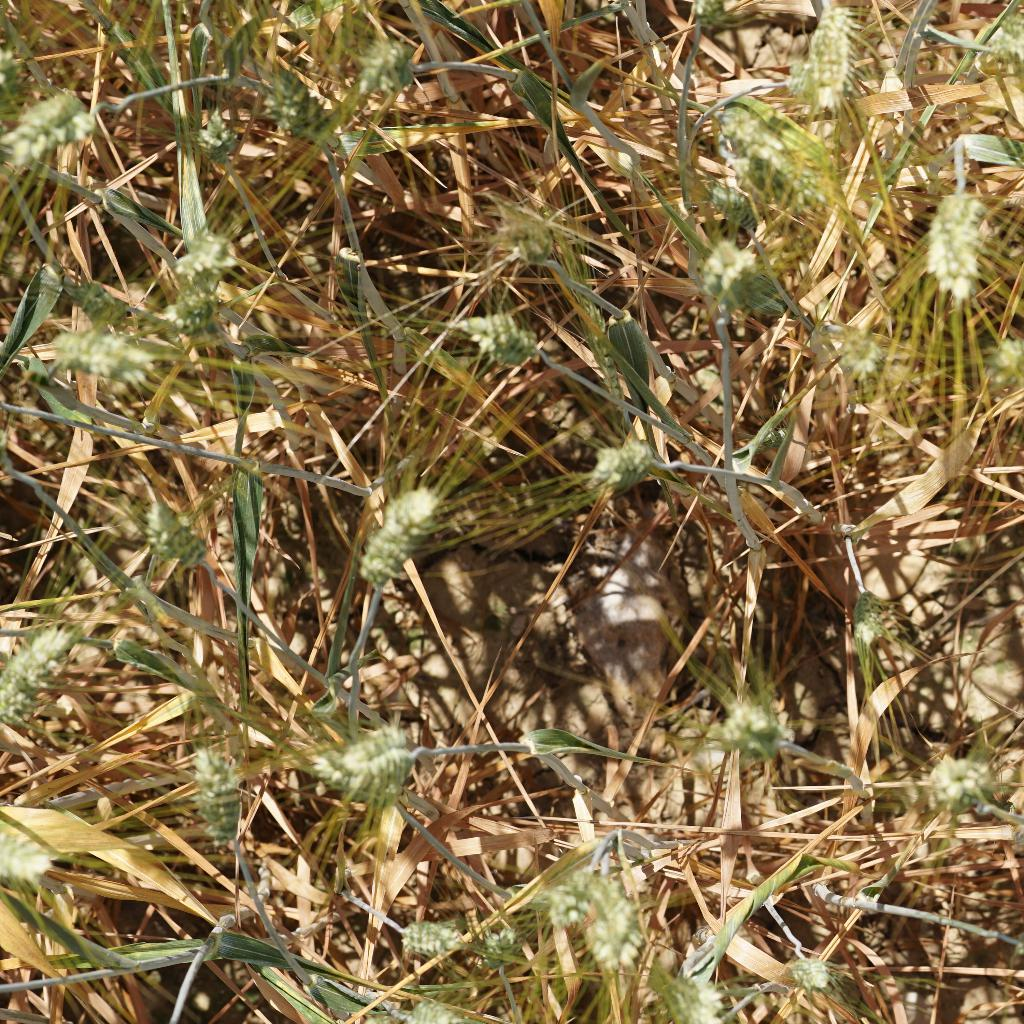0-0: (41, 316, 169, 406), (2, 74, 107, 183), (909, 171, 994, 302), (351, 475, 438, 597), (0, 619, 89, 737), (183, 742, 260, 869), (316, 716, 423, 799), (246, 48, 328, 145), (795, 0, 862, 117), (130, 493, 221, 574), (453, 299, 544, 374), (707, 100, 798, 175), (575, 862, 638, 965), (923, 747, 1008, 822), (161, 272, 246, 343), (493, 190, 571, 264), (712, 686, 788, 761), (692, 168, 772, 235), (346, 27, 418, 100), (823, 316, 894, 388), (702, 234, 763, 314), (167, 223, 245, 283), (187, 96, 243, 178), (840, 583, 909, 647), (0, 837, 68, 901), (387, 911, 468, 964), (788, 934, 840, 1015), (657, 964, 727, 1024), (590, 428, 658, 489), (971, 10, 1024, 82), (531, 859, 589, 920), (471, 923, 534, 978), (990, 328, 1024, 400)
